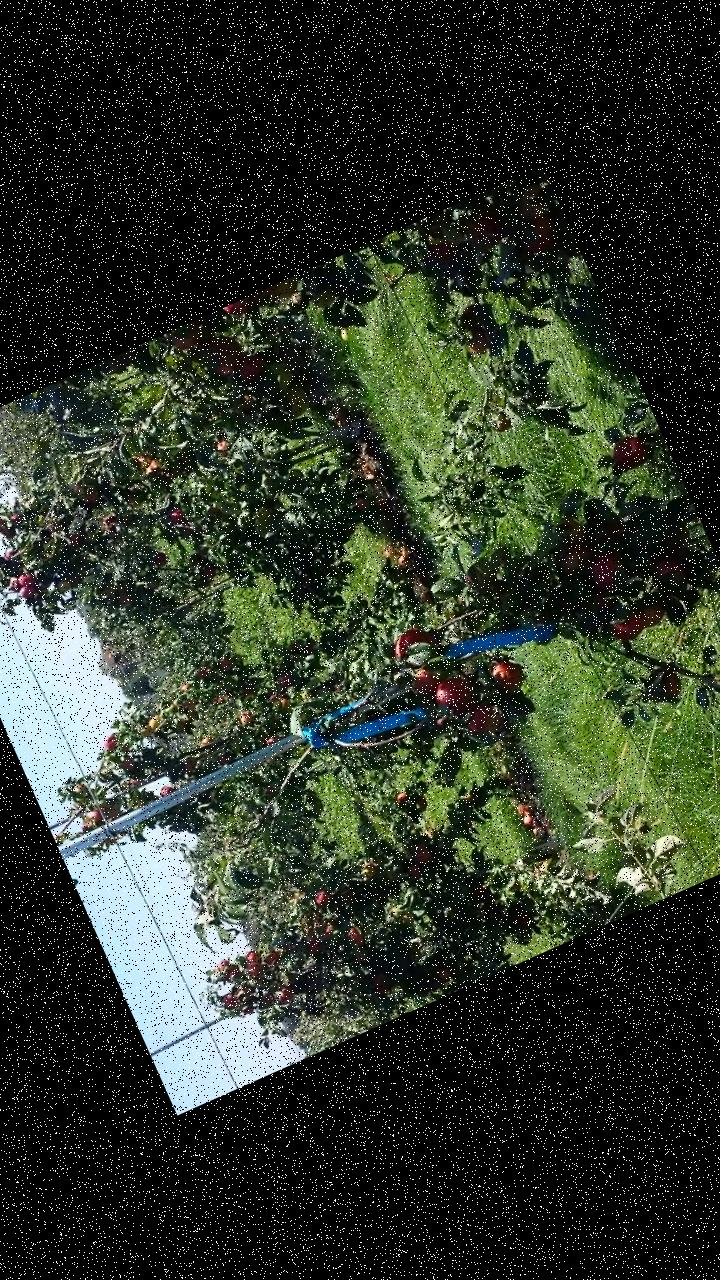Apple: (427, 668, 483, 721), (455, 695, 508, 744), (201, 328, 249, 379), (512, 210, 559, 256), (546, 507, 592, 552), (388, 615, 437, 657), (503, 180, 550, 223), (462, 209, 506, 254), (608, 431, 653, 474), (582, 550, 628, 592), (406, 658, 447, 704), (554, 536, 597, 576), (632, 594, 672, 632), (488, 654, 525, 694), (606, 608, 644, 644), (231, 346, 268, 382), (650, 669, 686, 704), (168, 322, 204, 356), (278, 384, 312, 420), (650, 555, 686, 586), (462, 329, 496, 359), (426, 240, 459, 268), (272, 275, 302, 301), (249, 286, 279, 310), (222, 298, 250, 322), (489, 408, 514, 433)
